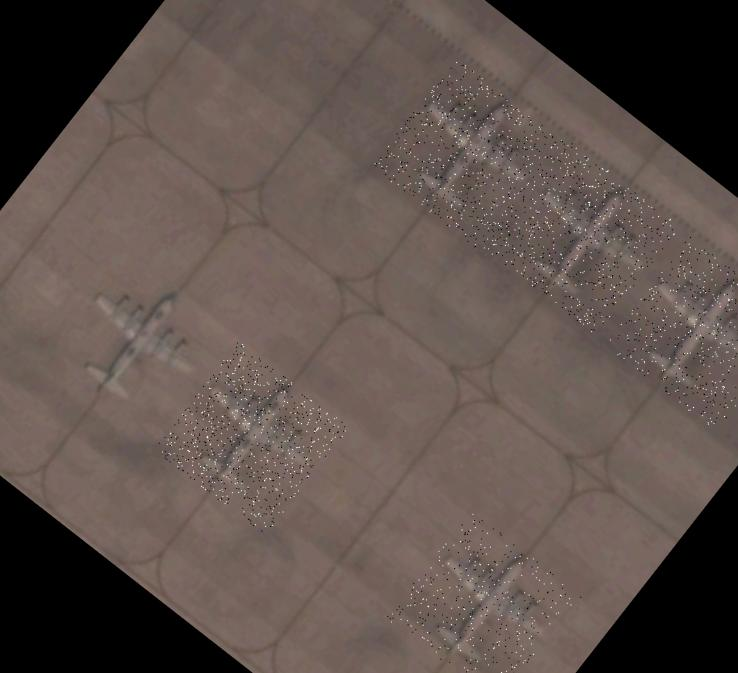A9: (39, 250, 236, 446), (153, 340, 349, 536), (484, 139, 680, 335), (370, 56, 566, 252), (385, 508, 581, 673), (604, 235, 738, 431)
